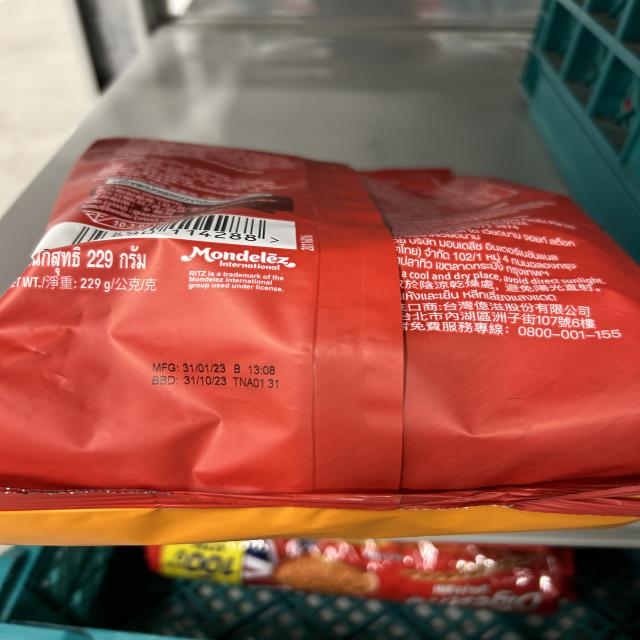object_name: (10, 140, 640, 530)
